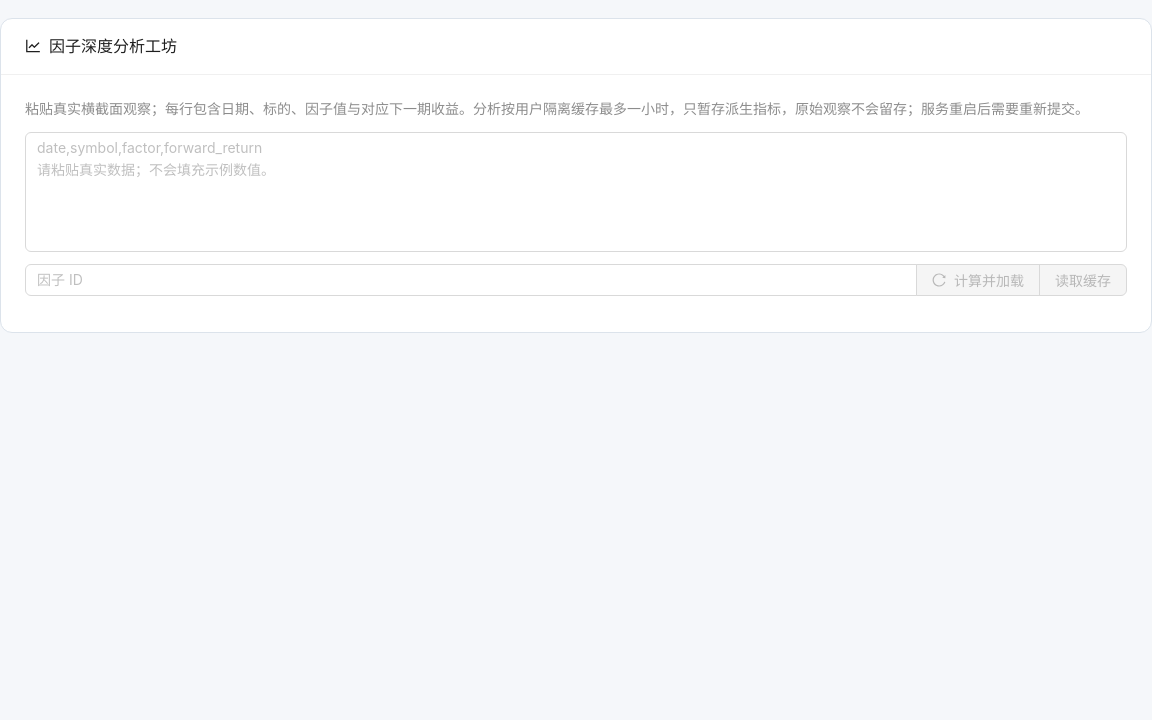
AlphaFactorAnalytics › can read a still-cached factor result using its factor ID
Step 1. Type "saved-factor" into the field labelled "因子 ID" → [471, 280], box [25,264,917,296]
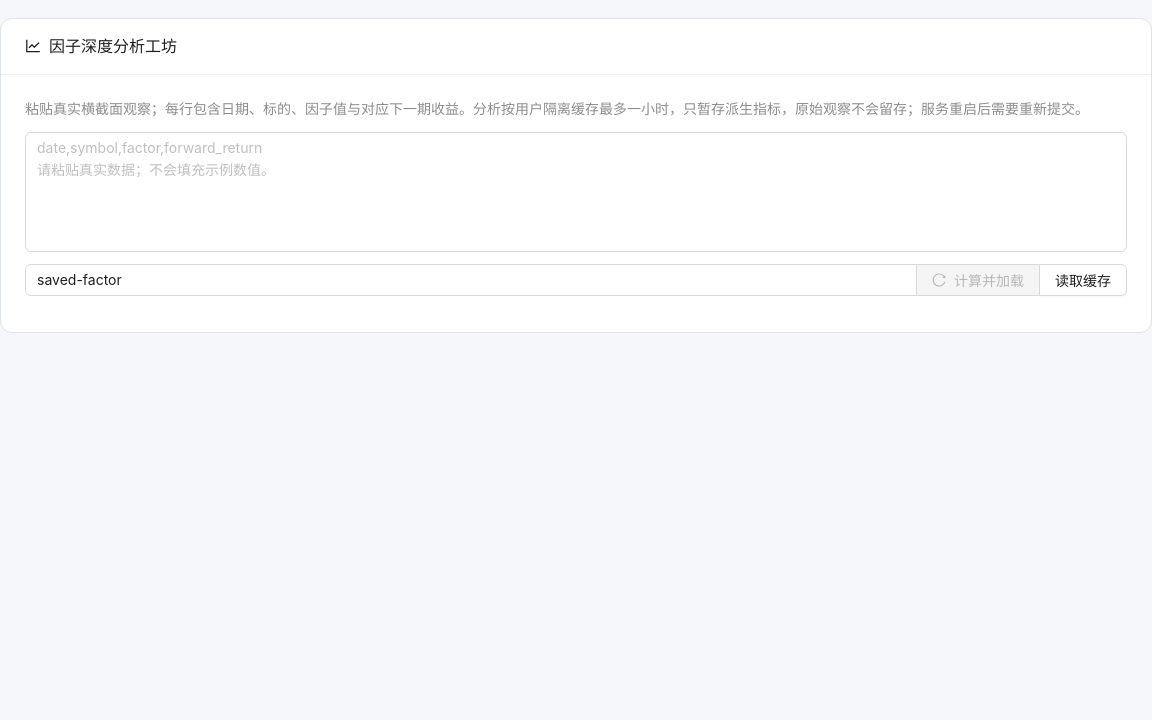
Step 2. Click the button "读取缓存" → [1083, 280], box [1039,264,1127,296]
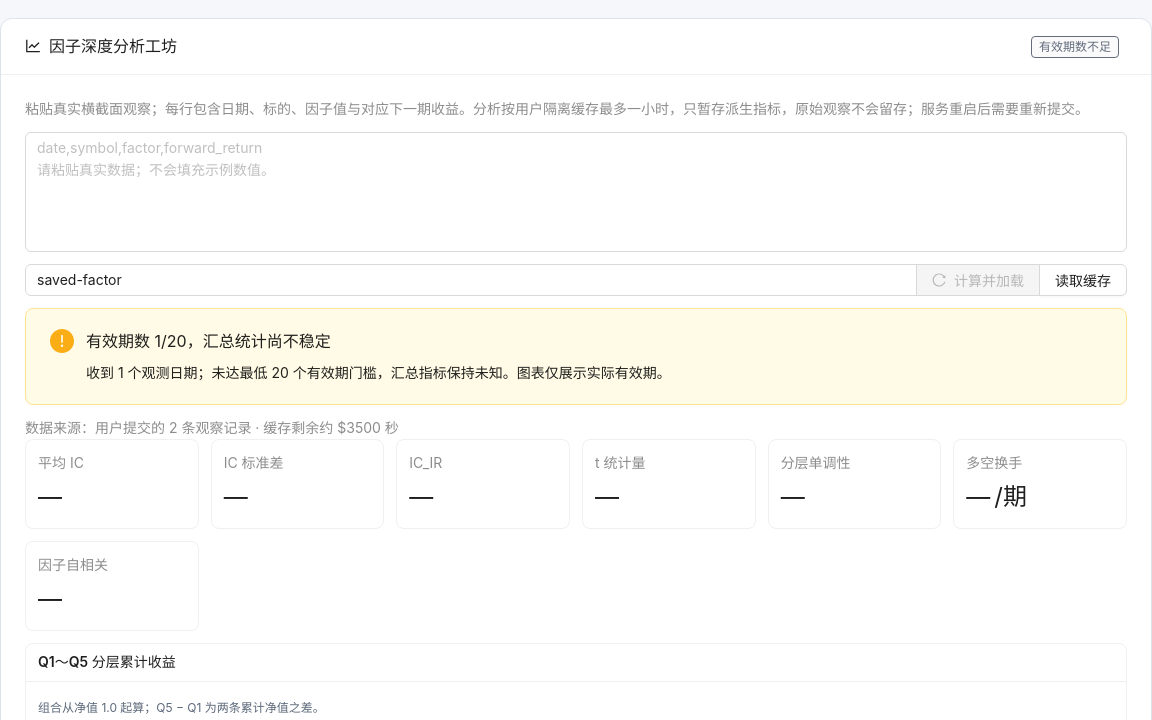
Expected: the text "数据来源：用户提交的 2 条观察记录 · 缓存剩余约 $3500 秒" is shown, [25,419,399,436]
